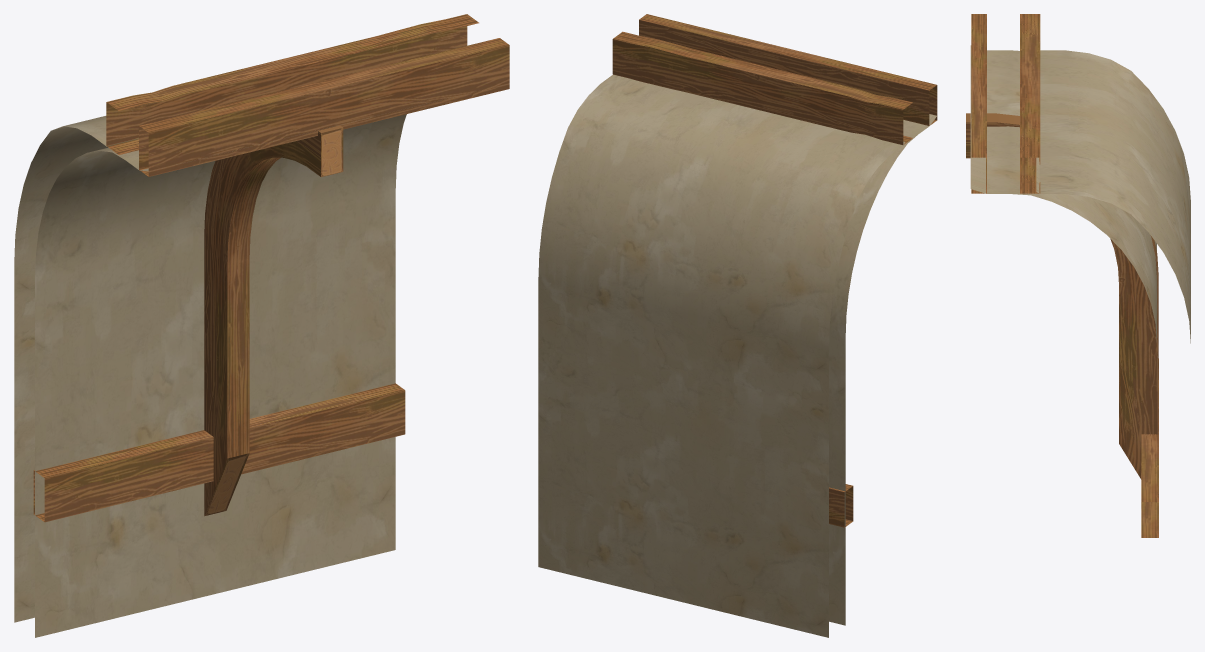
File: Overhang_Plaster_Short.gltf
3 views of the same model, side by side, from view 1: azimuth 30°, elevation 25°; view 2: azimuth 150°, elevation 25°; view 3: azimuth 270°, elevation 25° (orthographic). The views are drawn at different scales.
Parts seen in each view (by area): view 1: Overhang_Plaster_Short; view 2: Overhang_Plaster_Short; view 3: Overhang_Plaster_Short.
Part boxes in pixels (left/top/right/bottom): Overhang_Plaster_Short: left=14, top=14, right=509, bottom=637; Overhang_Plaster_Short: left=538, top=14, right=937, bottom=637; Overhang_Plaster_Short: left=966, top=14, right=1190, bottom=537.
Size of the model in its own units: 2 by 3.12 by 1.32.
2 materials, 2 textured.
